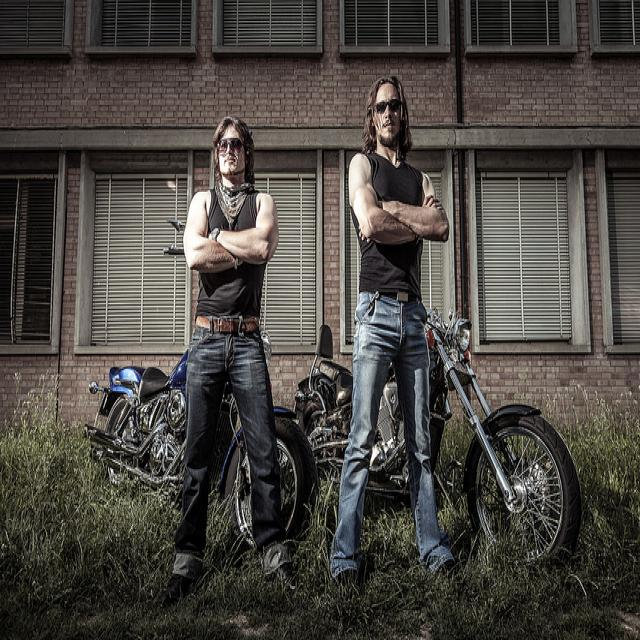motor: (290, 302, 589, 574), (83, 217, 323, 551)
